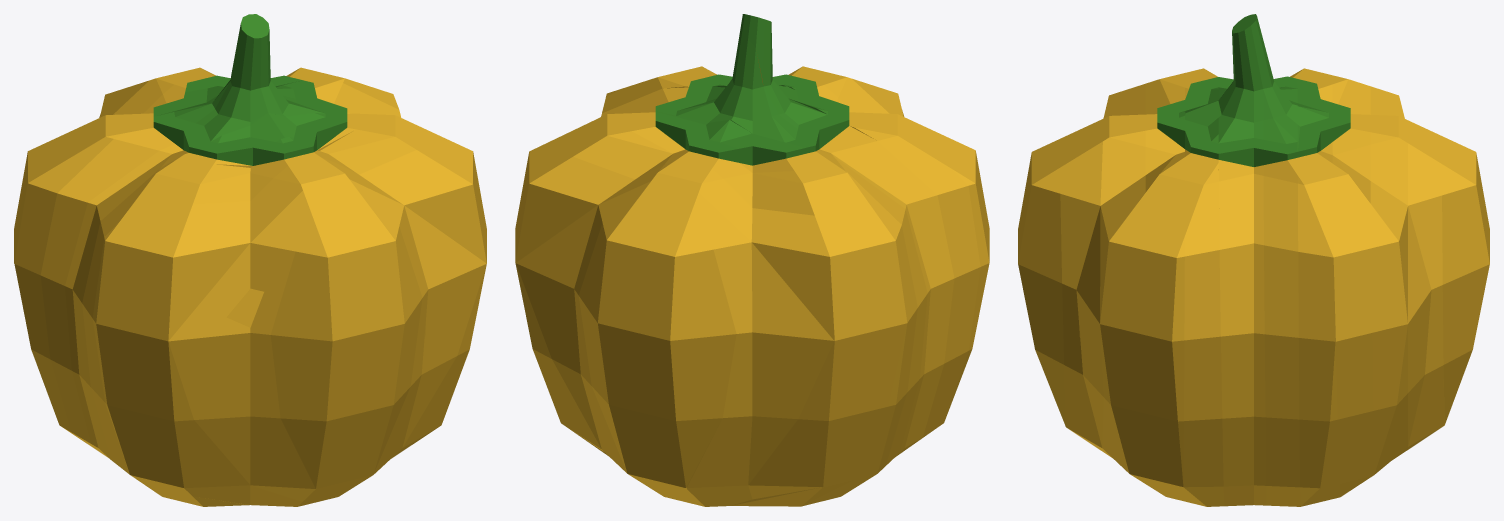
The model's file is YellowBellPepper.fbx.
3 renders of one model, left to right at view 1: azimuth 30°, elevation 25°; view 2: azimuth 150°, elevation 25°; view 3: azimuth 270°, elevation 25°, orthographic.
Visible parts, largest first — view 1: polySurface376.001; view 2: polySurface376.001; view 3: polySurface376.001.
Boxes of the visible parts, <box> form: polySurface376.001: <box>14,14,486,506</box>; polySurface376.001: <box>515,14,989,506</box>; polySurface376.001: <box>1018,14,1489,506</box>.
Size of the model in its own units: 210 by 228 by 220.
